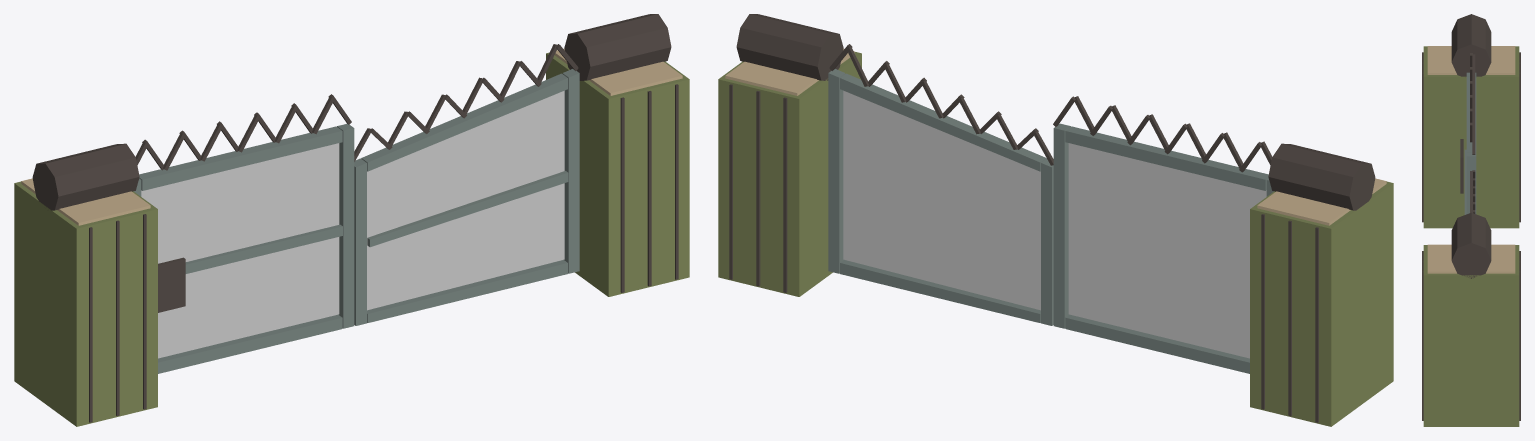
Rendered from SM_PuertaVia_v3_MallaEspino_e1_Danado_LOD0.fbx.
The picture shows the model from 3 angles, left to right: view 1: azimuth 30°, elevation 25°; view 2: azimuth 150°, elevation 25°; view 3: azimuth 270°, elevation 25°; orthographic projection. The views are drawn at different scales.
Visible parts, largest first — view 1: SM_bloques.puerta_via_v13_LOD0, Hoja_E, Hoja_O; view 2: SM_bloques.puerta_via_v13_LOD0, Hoja_E, Hoja_O; view 3: SM_bloques.puerta_via_v13_LOD0, Hoja_O, Hoja_E.
Part boxes in pixels (x1,y1,x2,y2): SM_bloques.puerta_via_v13_LOD0: (14,14,689,426); Hoja_E: (354,44,579,325); Hoja_O: (134,94,354,373); SM_bloques.puerta_via_v13_LOD0: (718,14,1393,426); Hoja_E: (828,44,1053,325); Hoja_O: (1053,96,1273,373); SM_bloques.puerta_via_v13_LOD0: (1422,14,1520,426); Hoja_O: (1460,53,1476,214); Hoja_E: (1466,170,1476,213).
Size of the model in its own units: 6.8 by 2.55 by 1.24.
